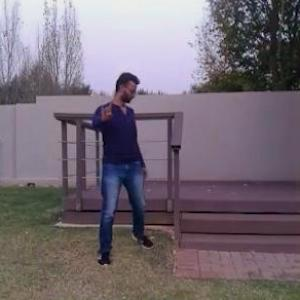takeoff-hand: (93, 92, 117, 125)
